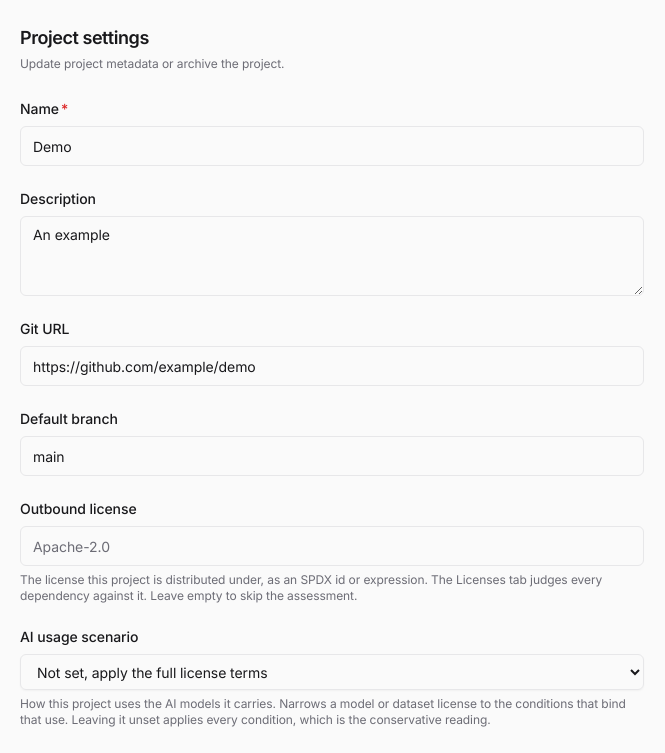
Test: SettingsTab › shows an inline name-required error when the name is cleared on submit
Clear the field with test id "settings-name-input". click: (332, 146)
box: [20,126,644,166]
(page scrolled)
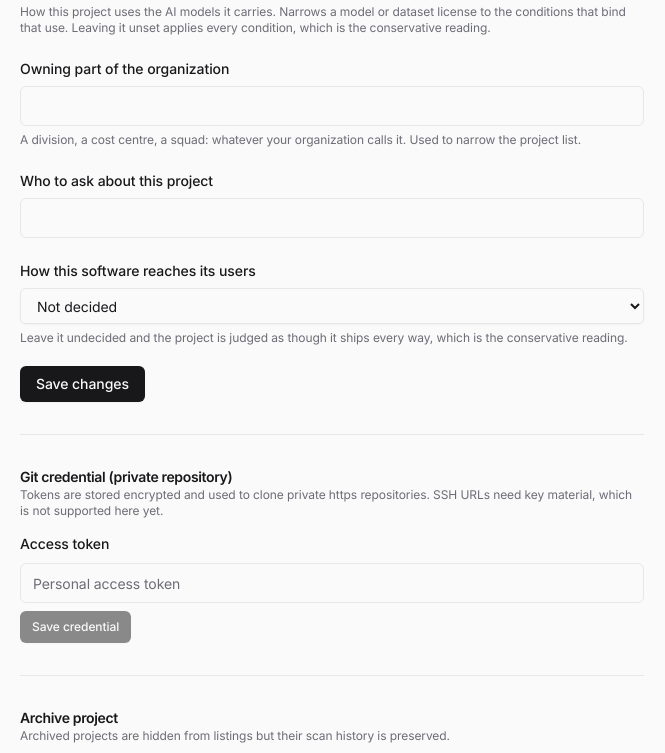
Click the button with test id "settings-save-button". click: (82, 384)
box: [20,366,145,402]
(page scrolled)
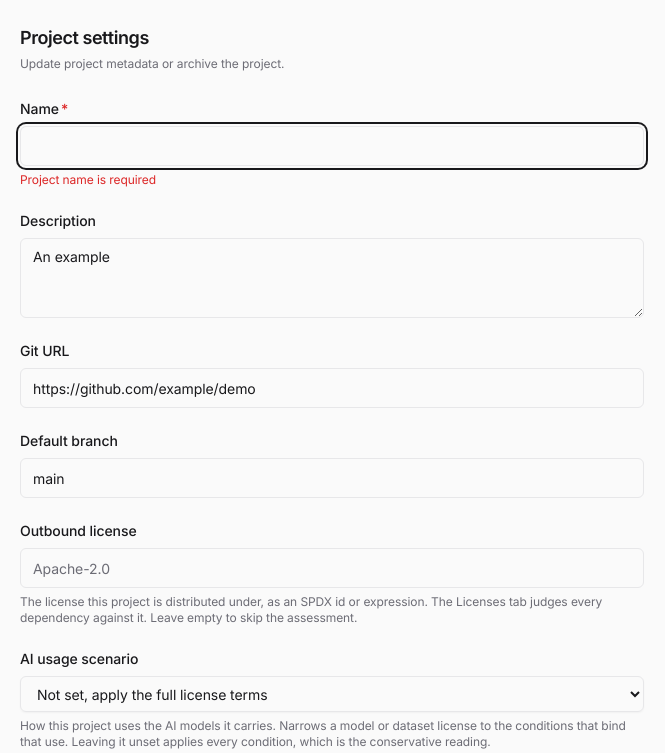
Result: the text "Project name is required" is shown at [20,172,156,187]
